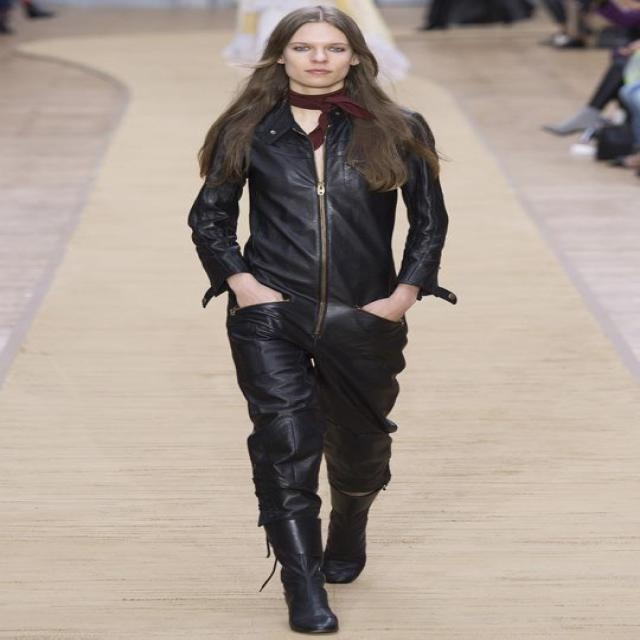obstacle: (141, 0, 506, 640)
